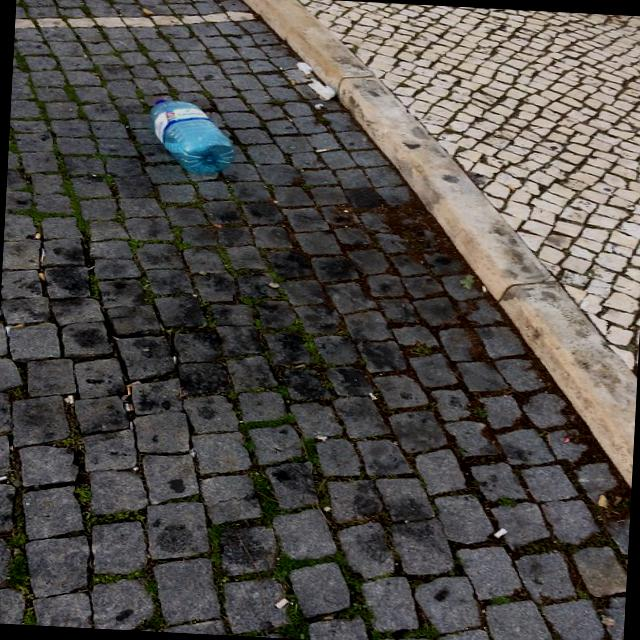Recycle: (152, 86, 236, 175)
